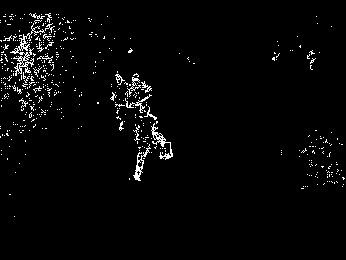person: (133, 104, 174, 183), (124, 70, 156, 111), (110, 73, 132, 132)
